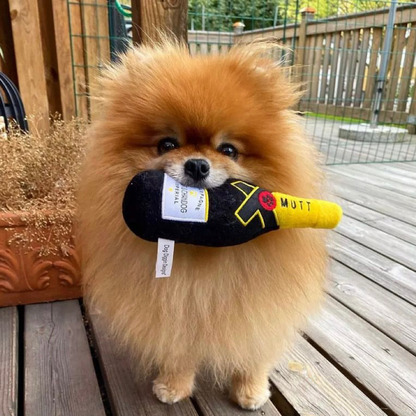Pomeranian: (75, 35, 343, 404)
